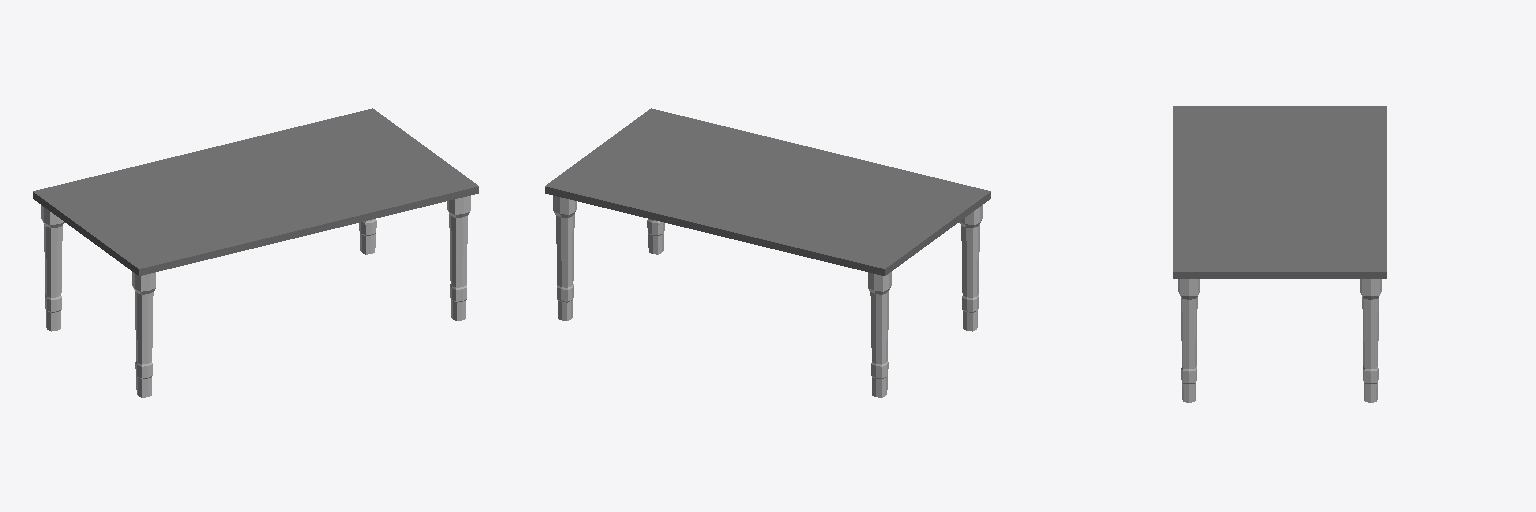
File: table_texture.obj
3 renders of one model, left to right at view 1: azimuth 30°, elevation 25°; view 2: azimuth 150°, elevation 25°; view 3: azimuth 270°, elevation 25°, orthographic.
Parts seen in each view (by area): view 1: tablemesh; view 2: tablemesh; view 3: tablemesh.
Boxes of the visible parts, box(x1,y1,x2,y2) form: tablemesh: box(33, 108, 478, 397); tablemesh: box(545, 108, 990, 397); tablemesh: box(1173, 106, 1386, 402).
Size of the model in its own units: 4.33 by 1.63 by 2.35.